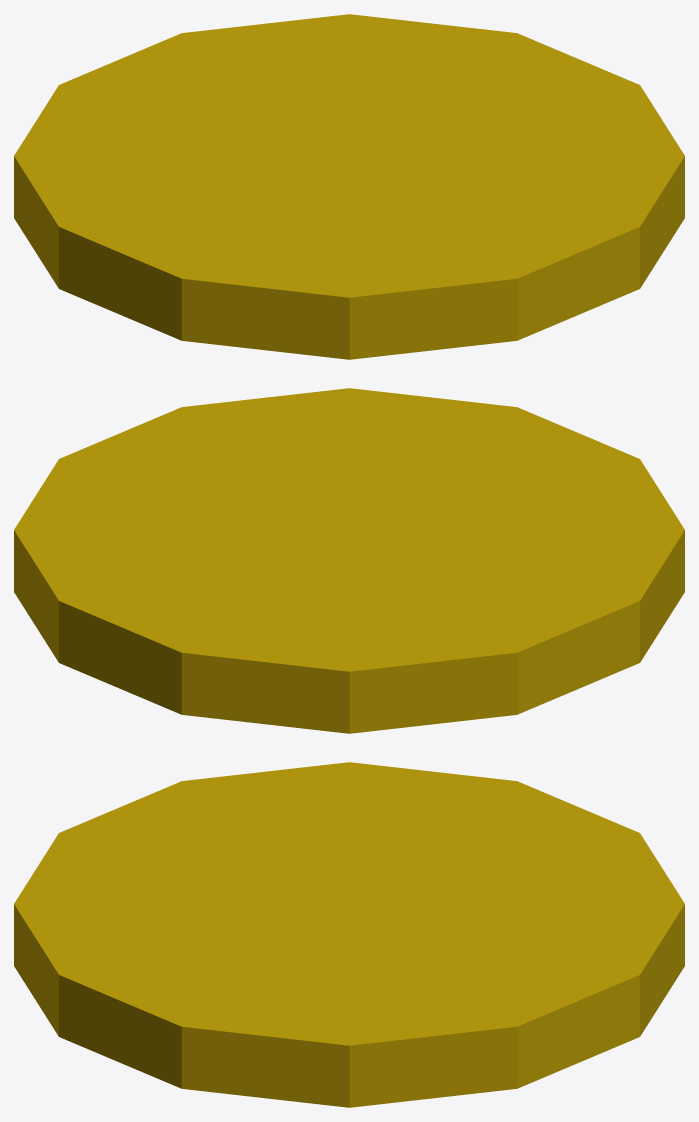
The model's file is CoinNoshatter.fbx.
3 views of the same model, one above another, from view 1: azimuth 30°, elevation 25°; view 2: azimuth 150°, elevation 25°; view 3: azimuth 270°, elevation 25° (orthographic).
Parts seen in each view (by area): view 1: Coin; view 2: Coin; view 3: Coin.
Boxes of the visible parts, box(x1,y1,x2,y2) form: Coin: box(14, 14, 684, 359); Coin: box(14, 388, 684, 733); Coin: box(14, 762, 684, 1107).
Size of the model in its own units: 2 by 0.2042 by 2.
